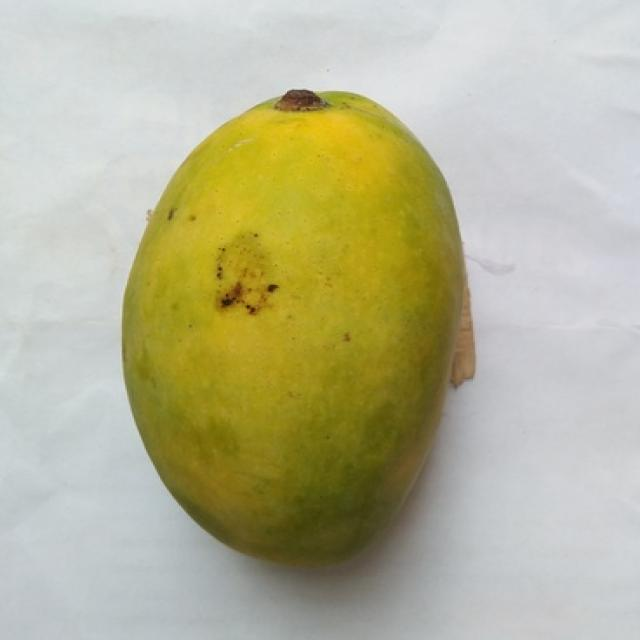Mango: (122, 91, 466, 562)
